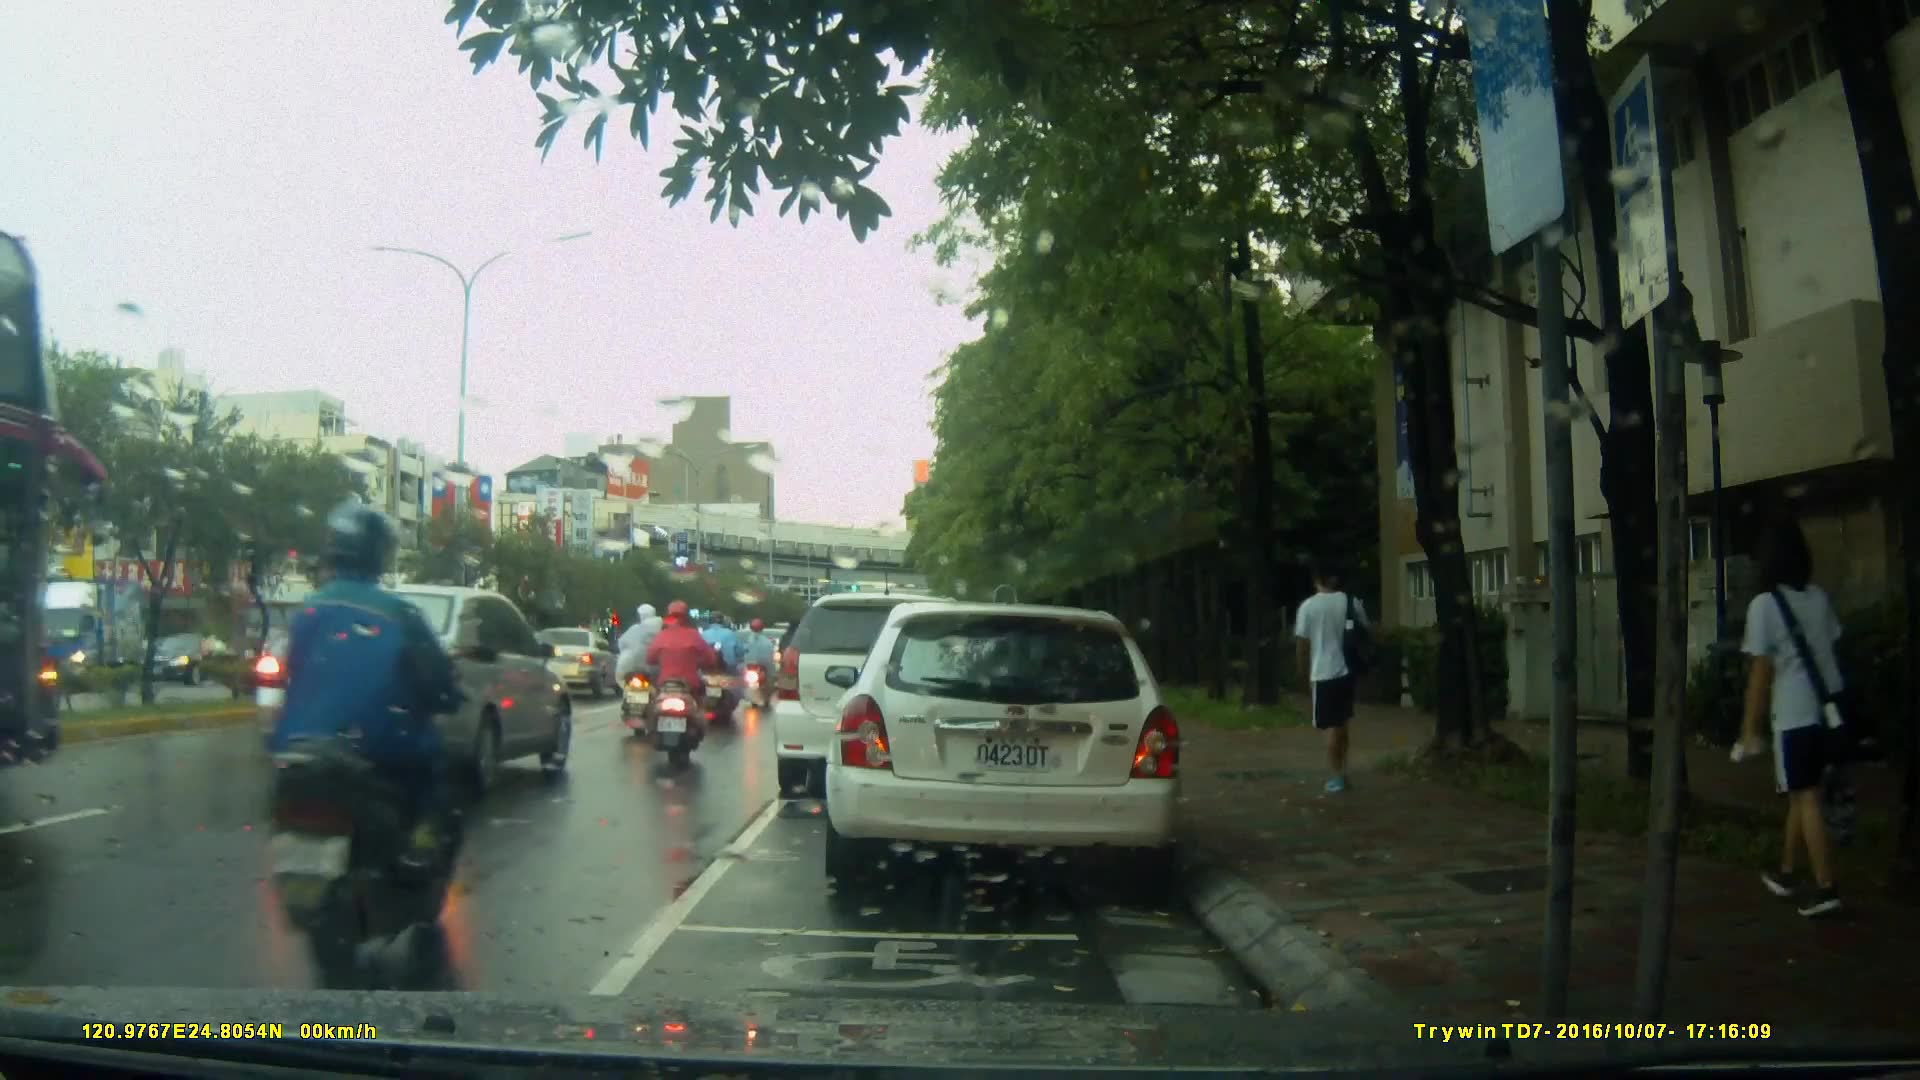pedestrian: (1732, 510, 1852, 927), (1296, 548, 1400, 816)
rider: (255, 502, 477, 987), (638, 602, 712, 775), (620, 603, 672, 742), (695, 610, 750, 723), (742, 615, 779, 712)
vehicle: (822, 604, 1188, 882), (253, 582, 575, 798), (774, 595, 995, 802), (518, 624, 627, 702), (144, 630, 241, 686)
